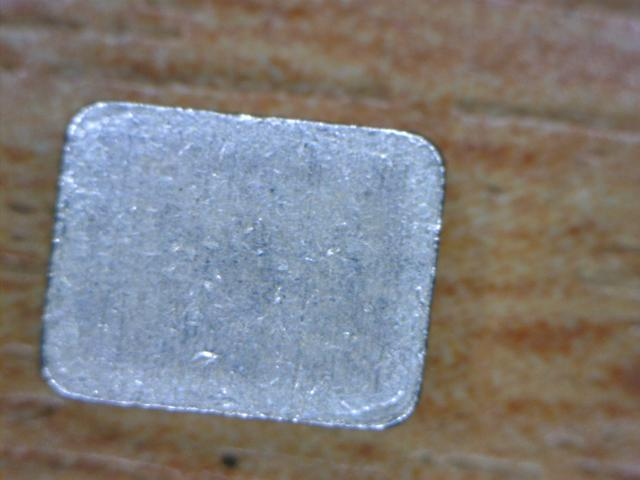ok: (33, 97, 453, 436)
